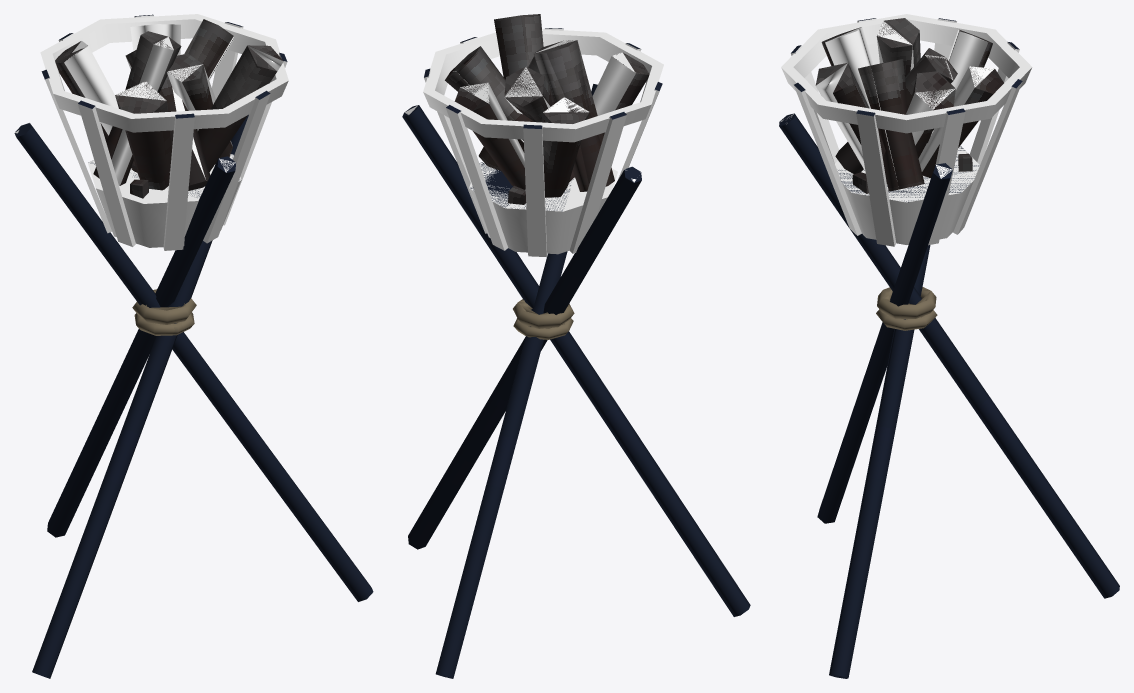
The model's file is objects_un_firetorch01.gltf.
3 views of the same model, side by side, from view 1: azimuth 30°, elevation 25°; view 2: azimuth 150°, elevation 25°; view 3: azimuth 270°, elevation 25° (orthographic). The views are drawn at different scales.
Parts seen in each view (by area): view 1: um_objects_un_firetorch01_model_lod0Shape:objects_un_firetor (×3), um_objects_un_firetorch01_model_lod1Shape:objects_un_firetor; view 2: um_objects_un_firetorch01_model_lod0Shape:objects_un_firetor (×3), um_objects_un_firetorch01_model_lod1Shape:objects_un_firetor; view 3: um_objects_un_firetorch01_model_lod0Shape:objects_un_firetor (×3), um_objects_un_firetorch01_model_lod1Shape:objects_un_firetor.
Part boxes in pixels (x1,y1,x2,y2): um_objects_un_firetorch01_model_lod0Shape:objects_un_firetor (×3): [14, 14, 373, 678]; um_objects_un_firetorch01_model_lod1Shape:objects_un_firetor: [111, 21, 232, 188]; um_objects_un_firetorch01_model_lod0Shape:objects_un_firetor (×3): [402, 14, 750, 678]; um_objects_un_firetorch01_model_lod1Shape:objects_un_firetor: [451, 43, 636, 191]; um_objects_un_firetorch01_model_lod0Shape:objects_un_firetor (×3): [779, 14, 1119, 678]; um_objects_un_firetorch01_model_lod1Shape:objects_un_firetor: [827, 21, 954, 189].
Size of the model in its own units: 0.9214 by 1.49 by 0.8052.
3 materials, 2 textured.
